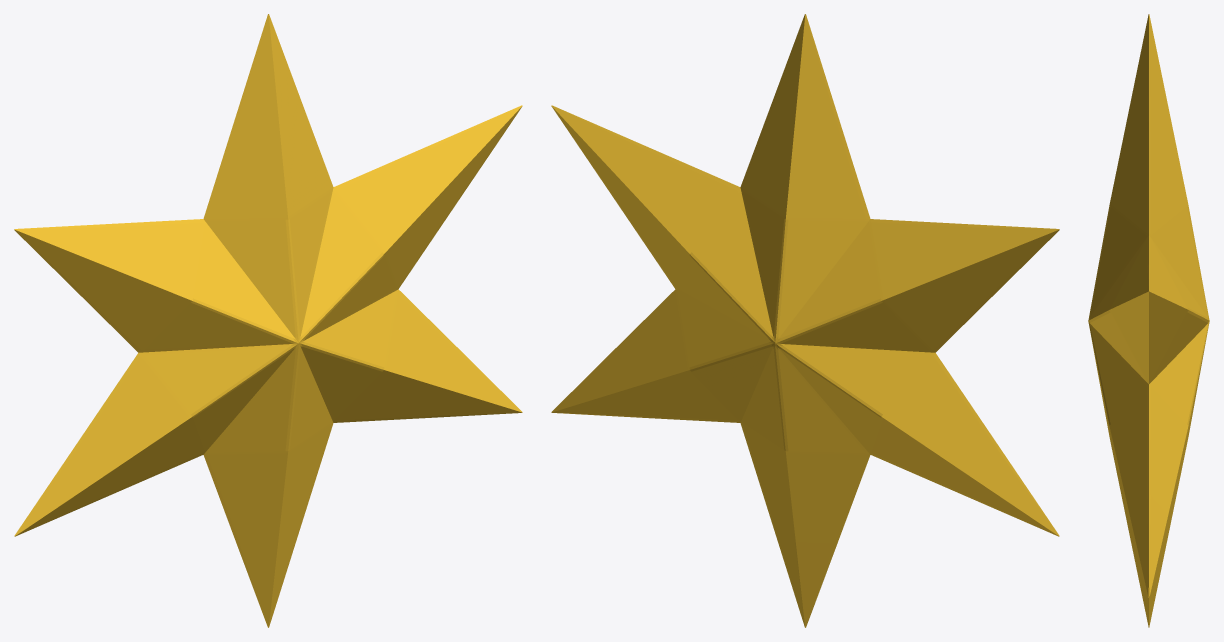
Rendered from xingxing.FBX.
3 views of the same model, side by side, from view 1: azimuth 30°, elevation 25°; view 2: azimuth 150°, elevation 25°; view 3: azimuth 270°, elevation 25° (orthographic).
Parts seen in each view (by area): view 1: FreeStar-by-Seth2o; view 2: FreeStar-by-Seth2o; view 3: FreeStar-by-Seth2o.
Part boxes in pixels (x1,y1,x2,y2): FreeStar-by-Seth2o: (14, 14, 522, 627); FreeStar-by-Seth2o: (551, 14, 1059, 627); FreeStar-by-Seth2o: (1088, 14, 1209, 627).
Bounding box in the file's own units: 112 × 129 × 23.05.
